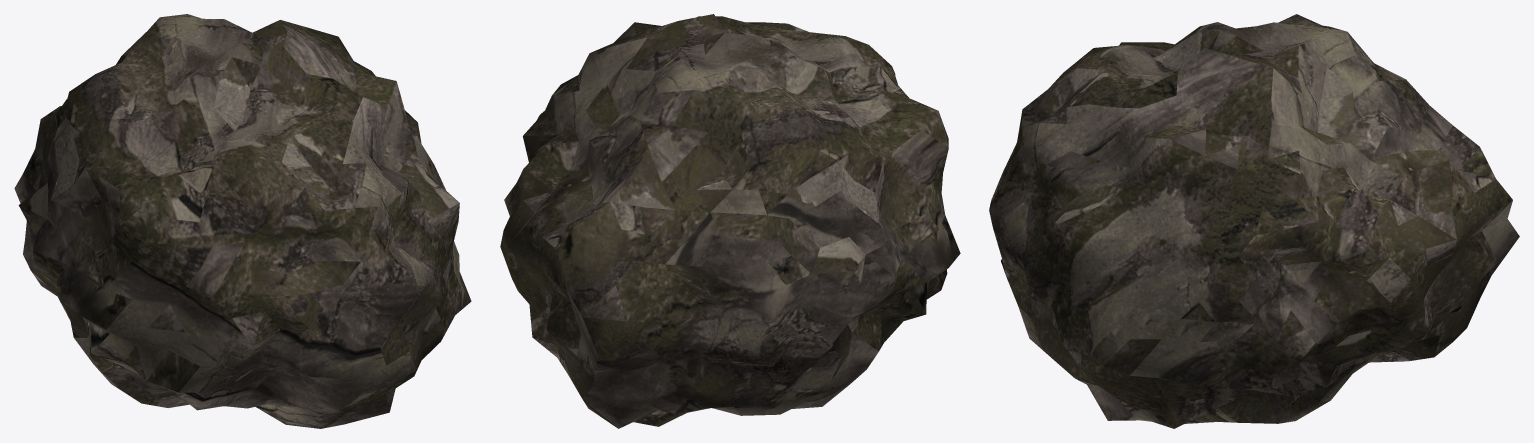
The model's file is asteroid_1.glb.
3 renders of one model, left to right at view 1: azimuth 30°, elevation 25°; view 2: azimuth 150°, elevation 25°; view 3: azimuth 270°, elevation 25°, orthographic.
Parts seen in each view (by area): view 1: Asteroid1; view 2: Asteroid1; view 3: Asteroid1.
Boxes of the visible parts, left/top/right/bottom form: Asteroid1: left=14, top=14, right=471, bottom=428; Asteroid1: left=500, top=14, right=960, bottom=428; Asteroid1: left=989, top=14, right=1519, bottom=428.
Size of the model in its own units: 1.85 by 1.72 by 2.31.
Materials: 1 (1 with a texture image).
